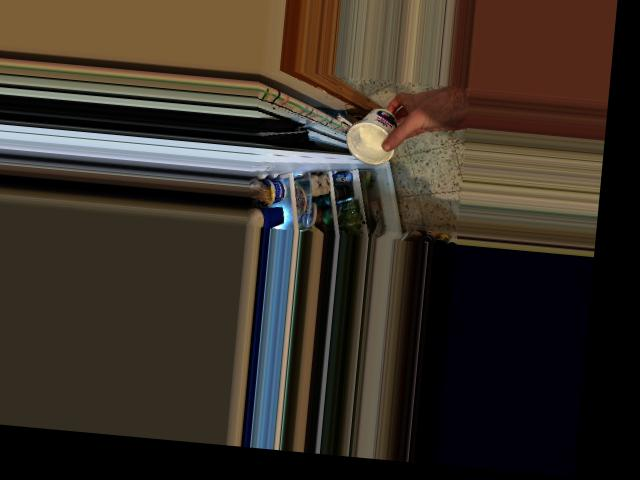cotage: (345, 103, 402, 163)
